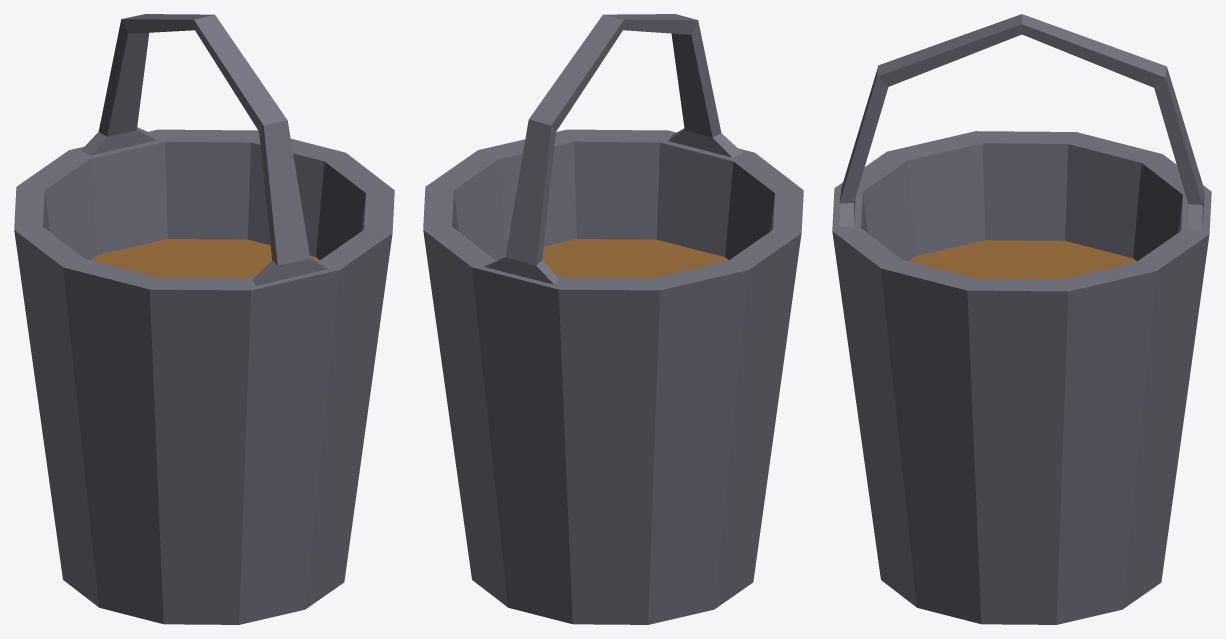
File: bucketmolotov.fbx
3 renders of one model, left to right at view 1: azimuth 30°, elevation 25°; view 2: azimuth 150°, elevation 25°; view 3: azimuth 270°, elevation 25°, orthographic.
Visible parts, largest first — view 1: Cylinder; view 2: Cylinder; view 3: Cylinder.
Part boxes in pixels (box(x1,y1,x2,y2)): Cylinder: box(14, 14, 394, 624); Cylinder: box(423, 14, 803, 624); Cylinder: box(832, 14, 1211, 624).
Bounding box in the file's own units: 194 × 309 × 194.
